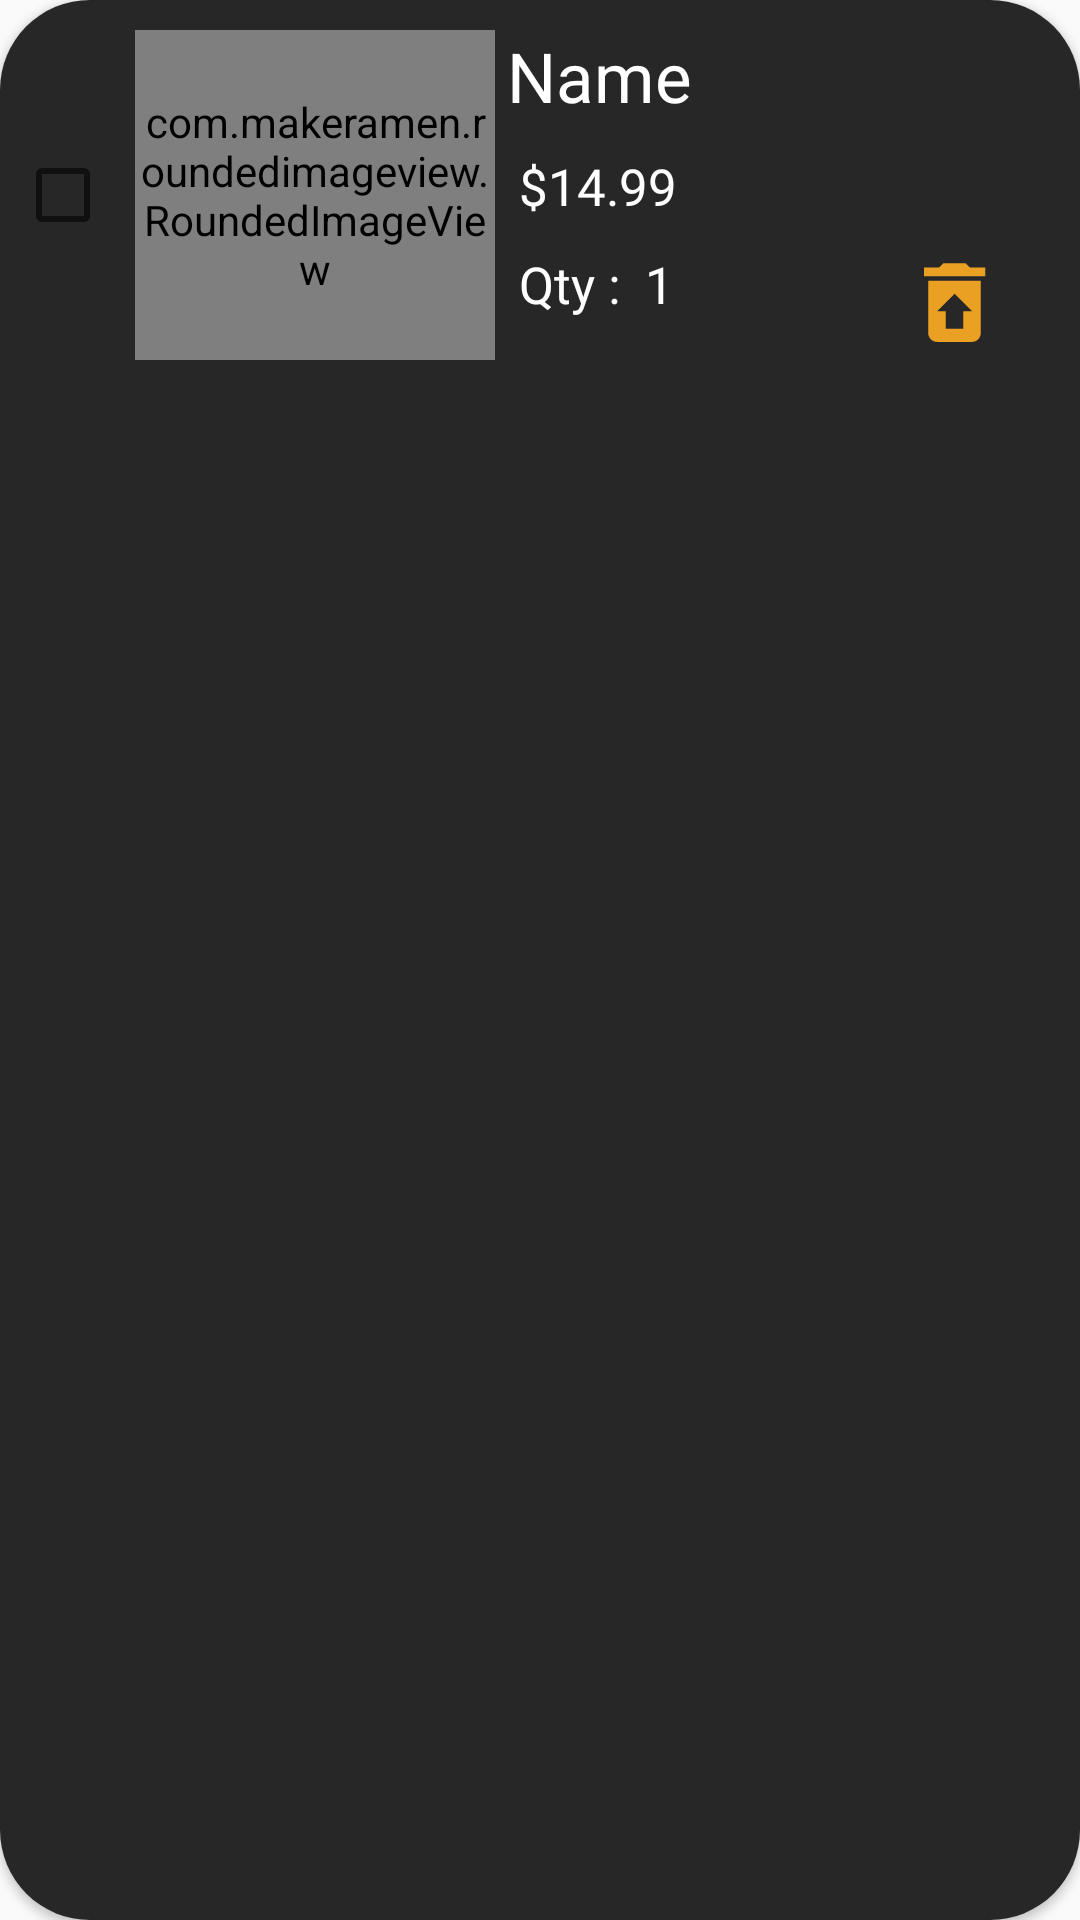

Screen size 1080×1920. Icon name, then its center in pixels as [x,y]:
restore from trash: [955,302]
